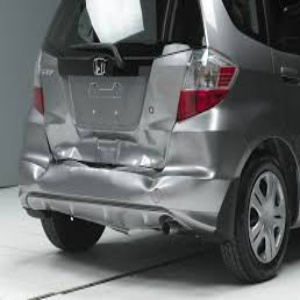bumper: (33, 139, 215, 236)
